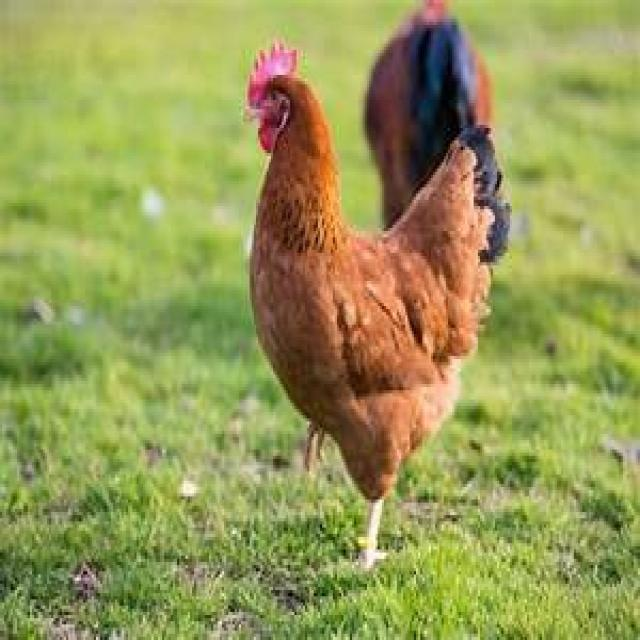hen: (243, 41, 510, 574)
